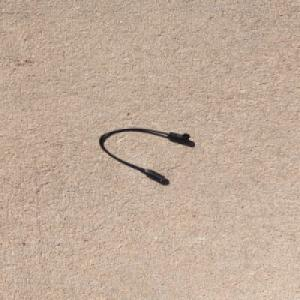Wire: (96, 127, 190, 182)
